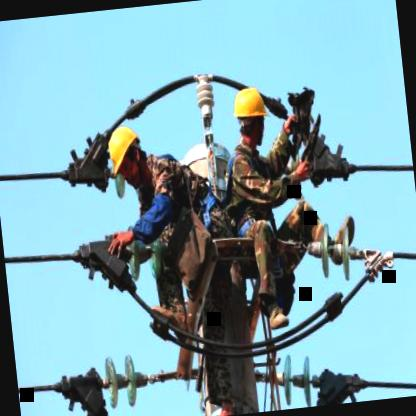helmet: (101, 121, 150, 190), (227, 80, 272, 146)
